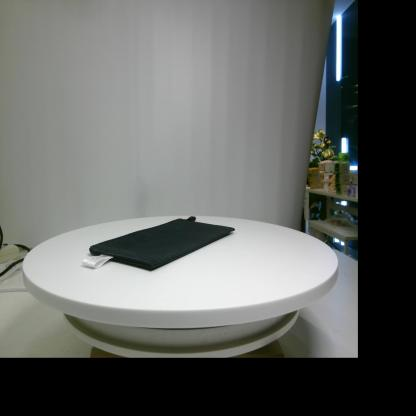Stationery: (82, 216, 235, 269)
